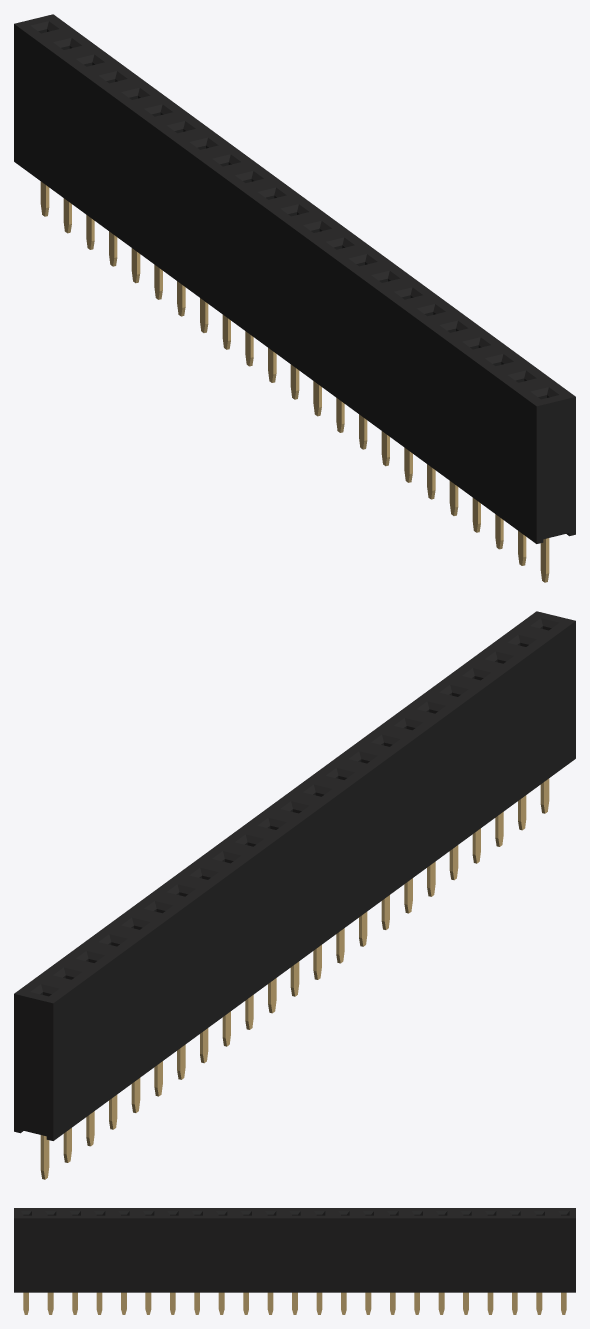
The model's file is kc-pinsocket_1x23_p2.54mm_vertical.glb.
3 views of the same model, one above another, from view 1: azimuth 30°, elevation 25°; view 2: azimuth 150°, elevation 25°; view 3: azimuth 270°, elevation 25° (orthographic). The views are drawn at different scales.
Visible parts, largest first — view 1: 0_0_0_0, 0.75_0.5_0.25_0.9; view 2: 0_0_0_0, 0.75_0.5_0.25_0.9; view 3: 0_0_0_0, 0.75_0.5_0.25_0.9.
Part boxes in pixels (x1,y1,x2,y2): 0_0_0_0: [14, 14, 575, 543]; 0.75_0.5_0.25_0.9: [40, 181, 549, 582]; 0_0_0_0: [14, 611, 575, 1140]; 0.75_0.5_0.25_0.9: [40, 778, 549, 1179]; 0_0_0_0: [14, 1208, 575, 1292]; 0.75_0.5_0.25_0.9: [23, 1292, 566, 1314].
Size of the model in its own units: 0.2539 by 1.16 by 5.84.
